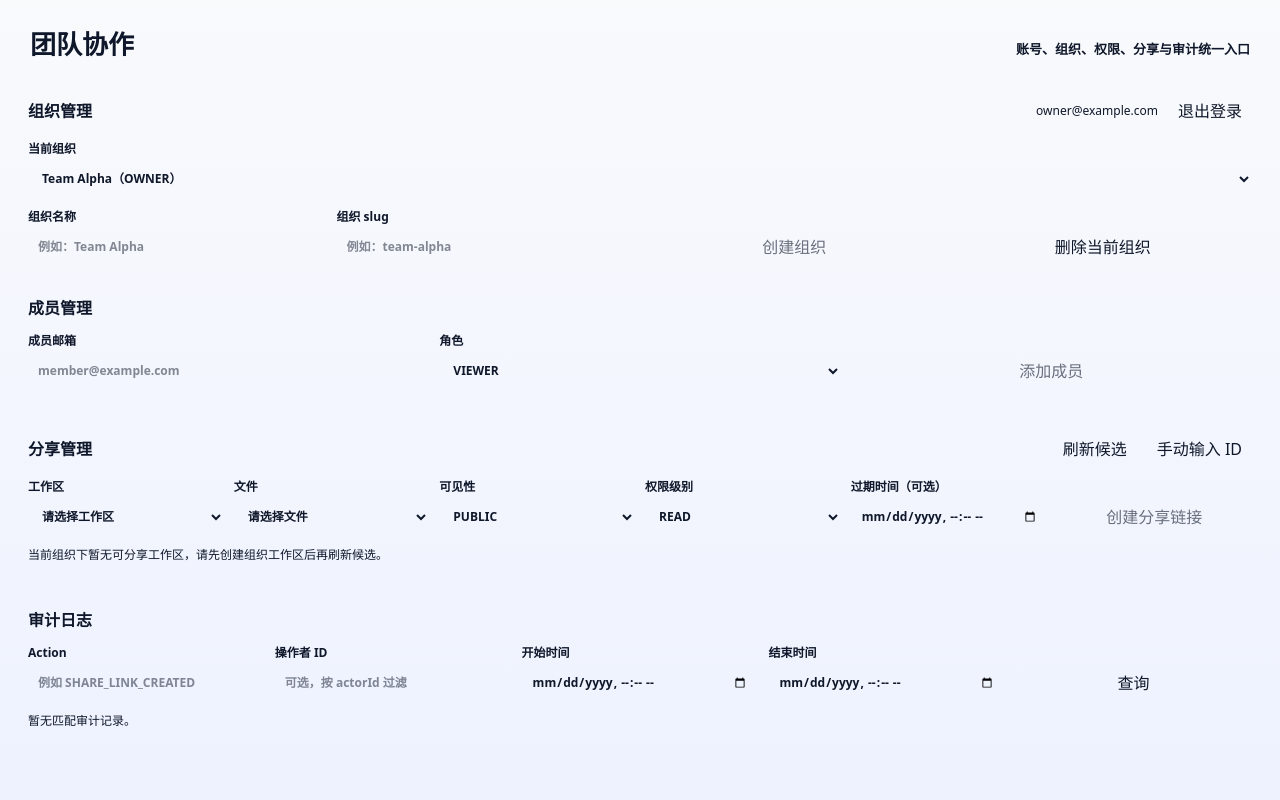
Test case: TeamPage › supports organization delete with confirm dialog flow
Expected: the dropdown with test id "team-org-select" shows "Team Alpha（OWNER）", [28,162,1252,196]
Click the button with test id "team-org-delete" at (1103, 246), box [954,230,1252,264]
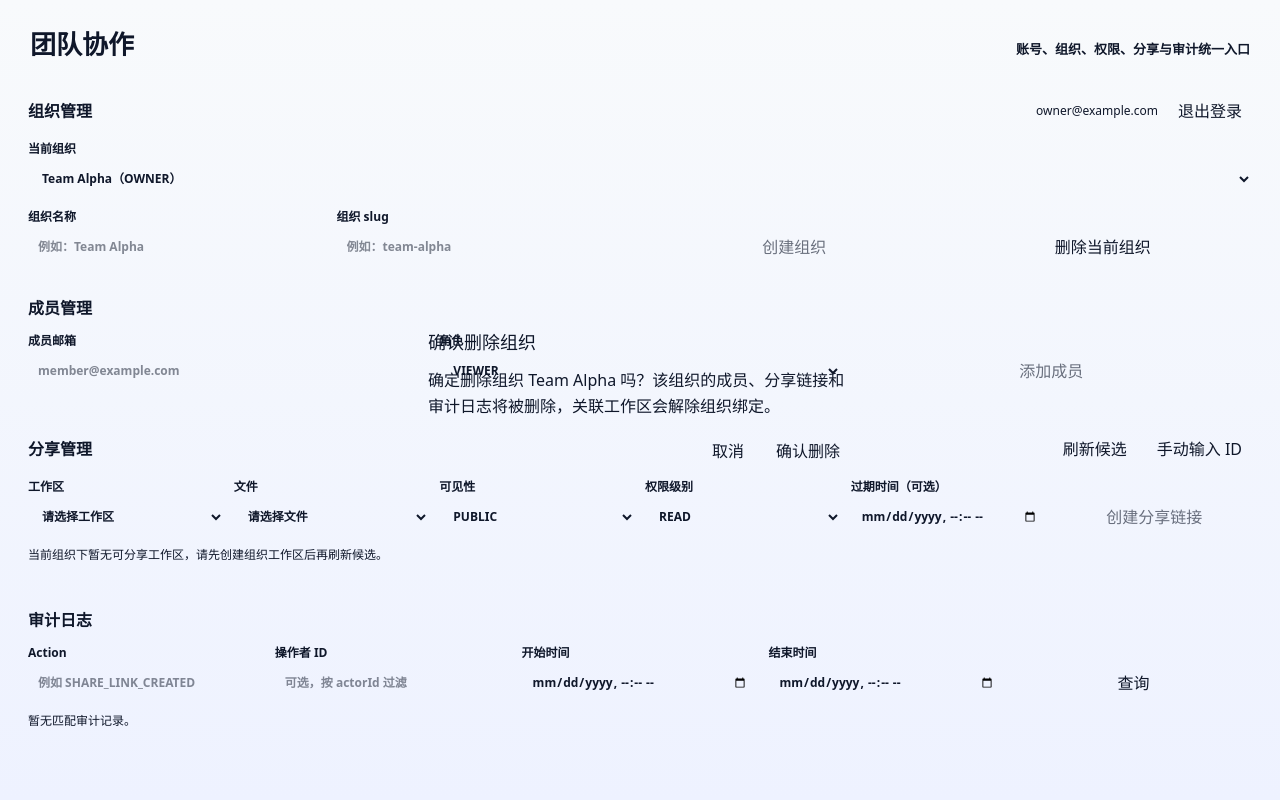
Now the element with test id "confirm-dialog" is shown, box [428,330,852,471]
Click the button with test id "confirm-dialog-cancel" at (728, 451), box [700,431,756,471]
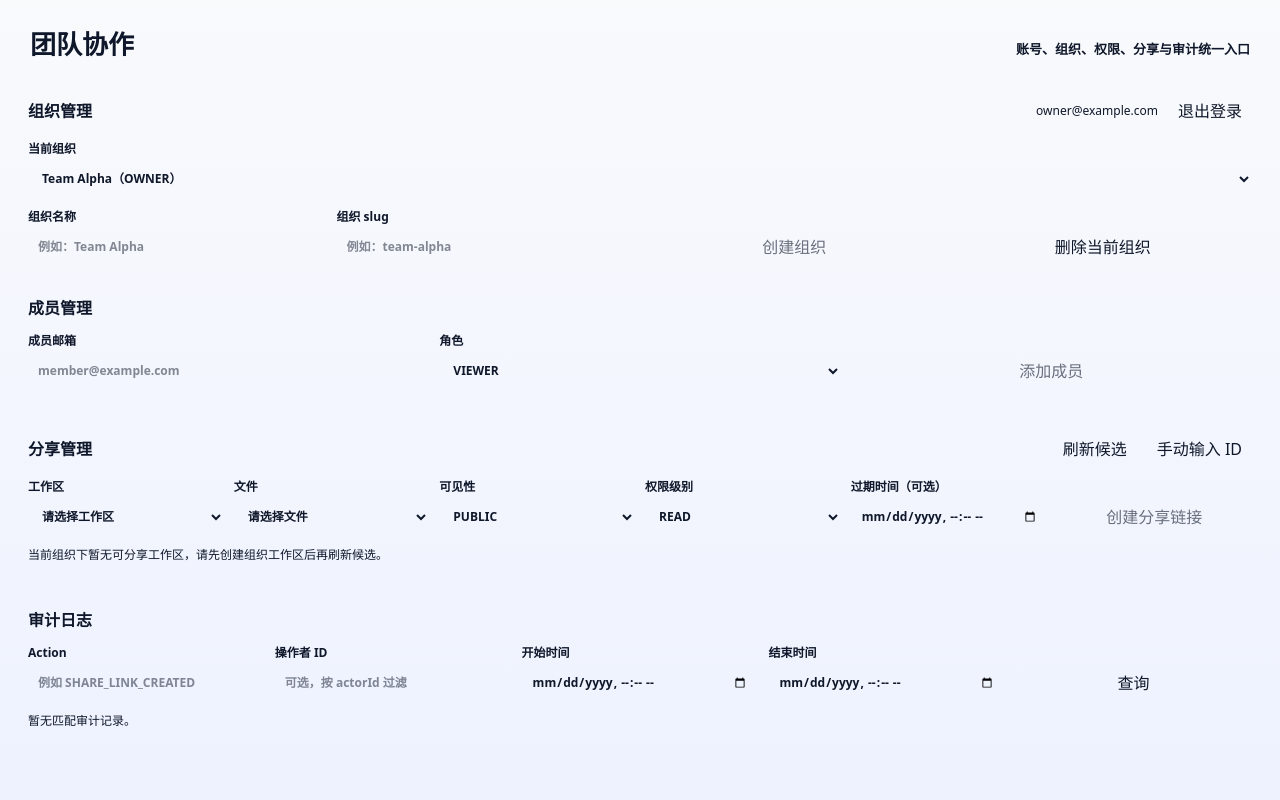
Click the button with test id "team-org-delete" at (1103, 246), box [954,230,1252,264]
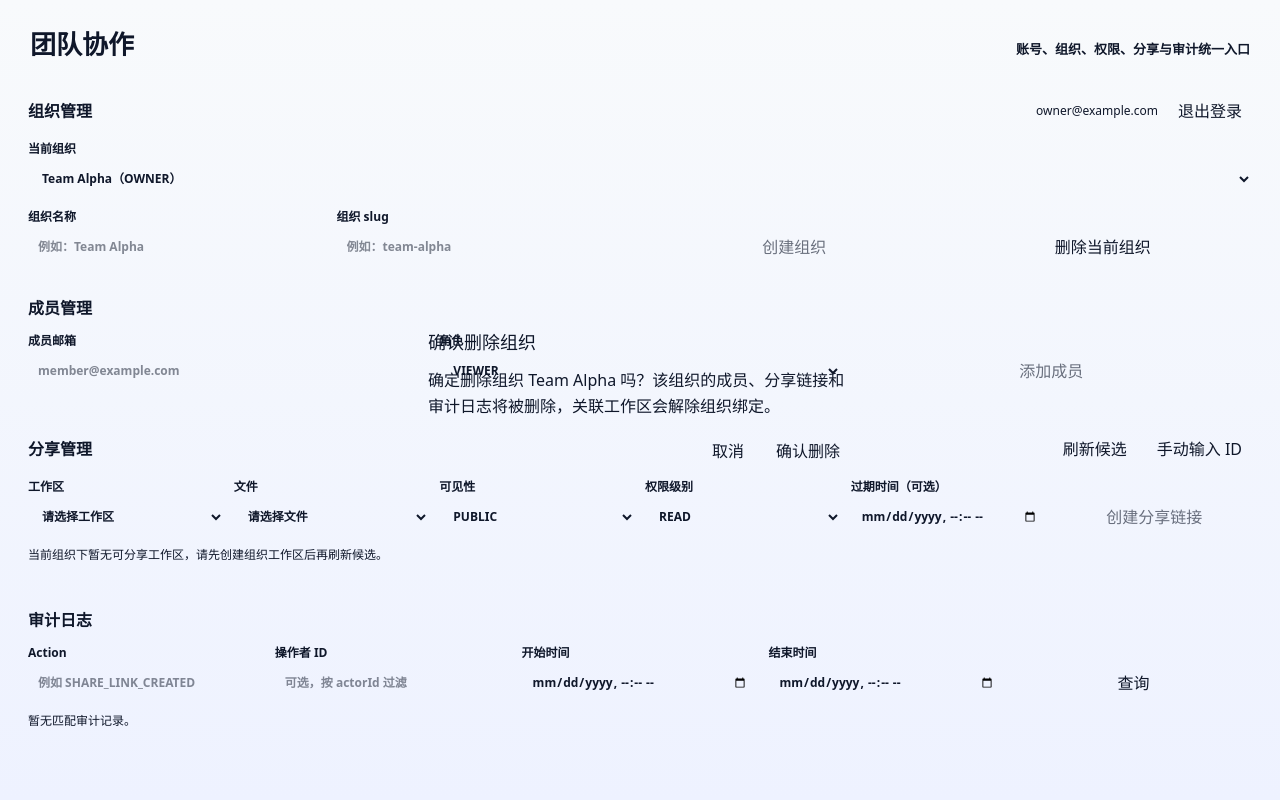
Click the button with test id "confirm-dialog-confirm" at (808, 451), box [764,431,852,471]
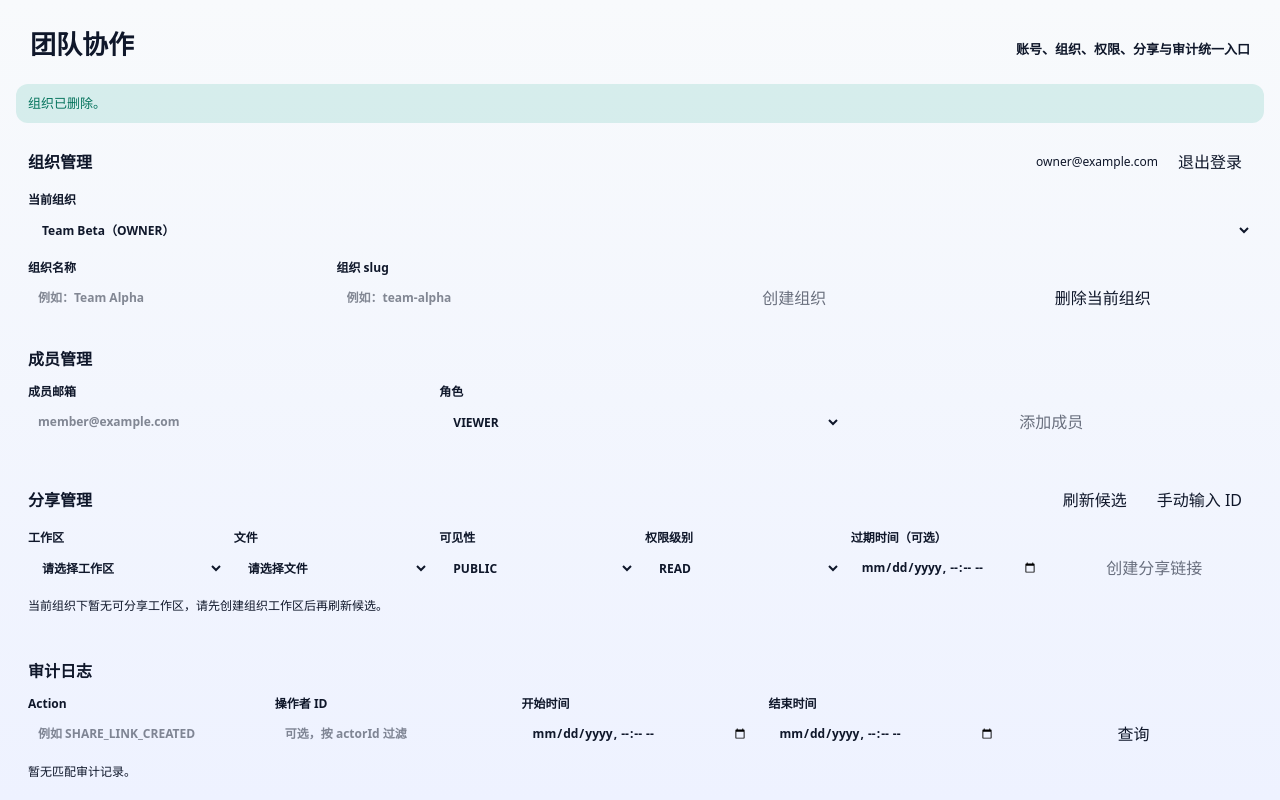
Now the dropdown with test id "team-org-select" shows "Team Beta（OWNER）", box [28,213,1252,247]
